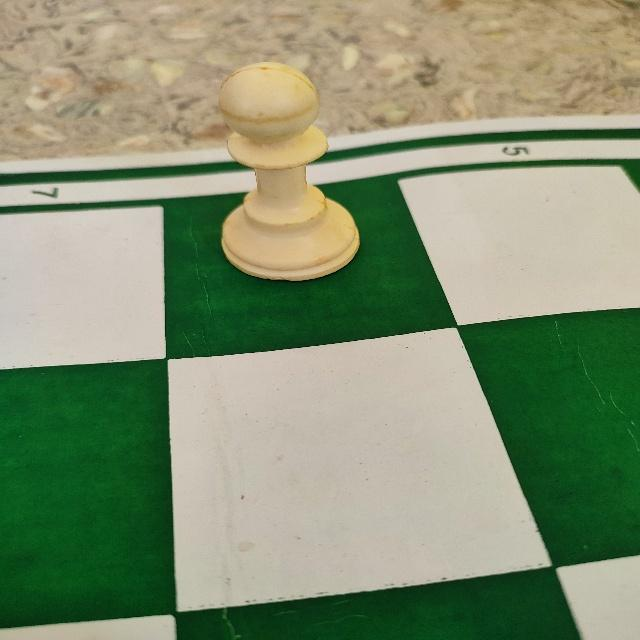Pawn: (216, 58, 364, 287)
